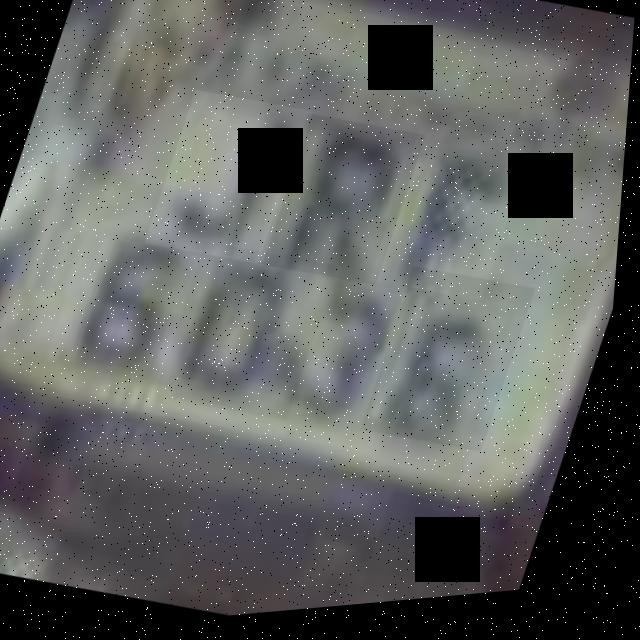0: (158, 236, 345, 435)
3: (259, 249, 441, 445)
6: (38, 211, 219, 425), (366, 266, 542, 469)
F: (371, 121, 539, 318)
J: (146, 85, 317, 278)
R: (260, 111, 430, 301)
